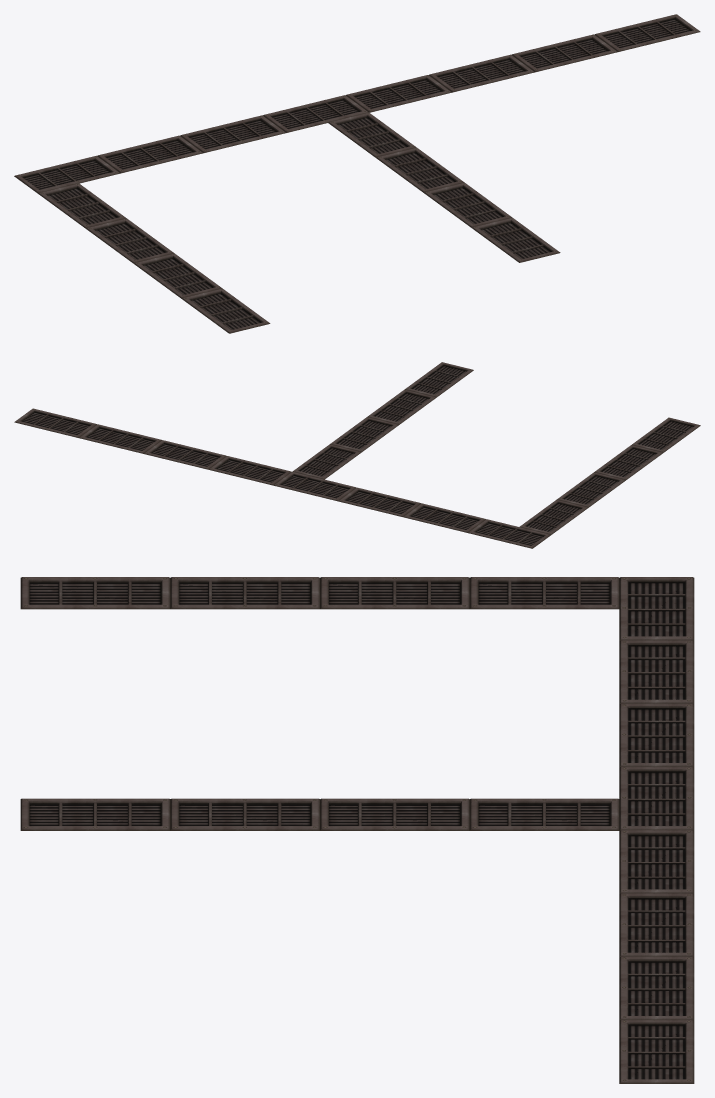
The model's file is Elevator Area Rack Tiles 1.fbx.
The picture shows the model from 3 angles, top to bottom: view 1: azimuth 30°, elevation 25°; view 2: azimuth 150°, elevation 25°; view 3: azimuth 270°, elevation 25°; orthographic projection. The views are drawn at different scales.
Parts seen in each view (by area): view 1: Elevator Area Rack Tiles 1; view 2: Elevator Area Rack Tiles 1; view 3: Elevator Area Rack Tiles 1.
Boxes of the visible parts, x1,y1,x2,y2 form: Elevator Area Rack Tiles 1: (14, 14, 700, 333); Elevator Area Rack Tiles 1: (14, 362, 700, 548); Elevator Area Rack Tiles 1: (20, 577, 694, 1083).
Bounding box in the file's own units: 48 × 0.1342 × 27.
